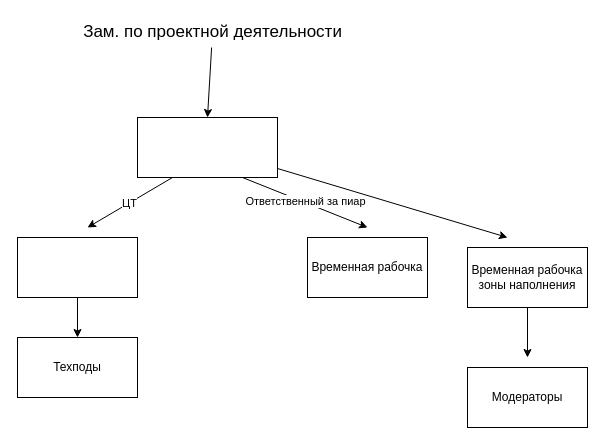
Some shapes in this 605 by 445 pixel diagram are drawn without their labels. Each missing label, with the centre of its shape:
ГО + ЦТ: the point at 207,147
Разработка и поддержка платформы: the point at 77,267
